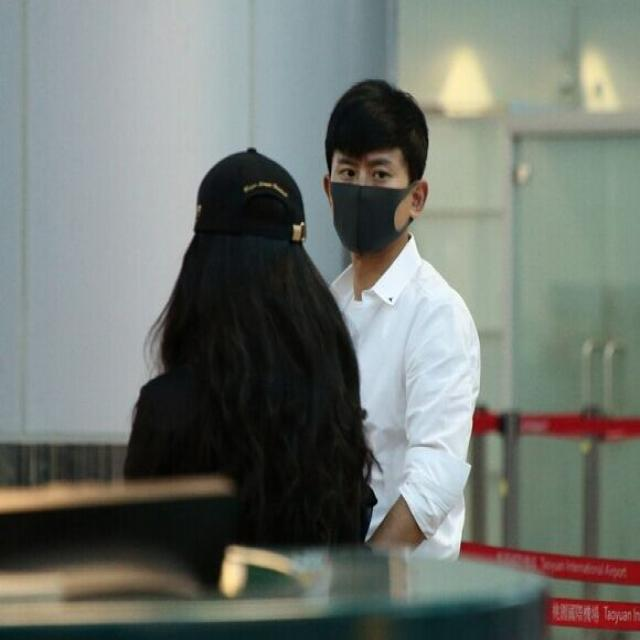mask: (328, 131, 404, 249)
